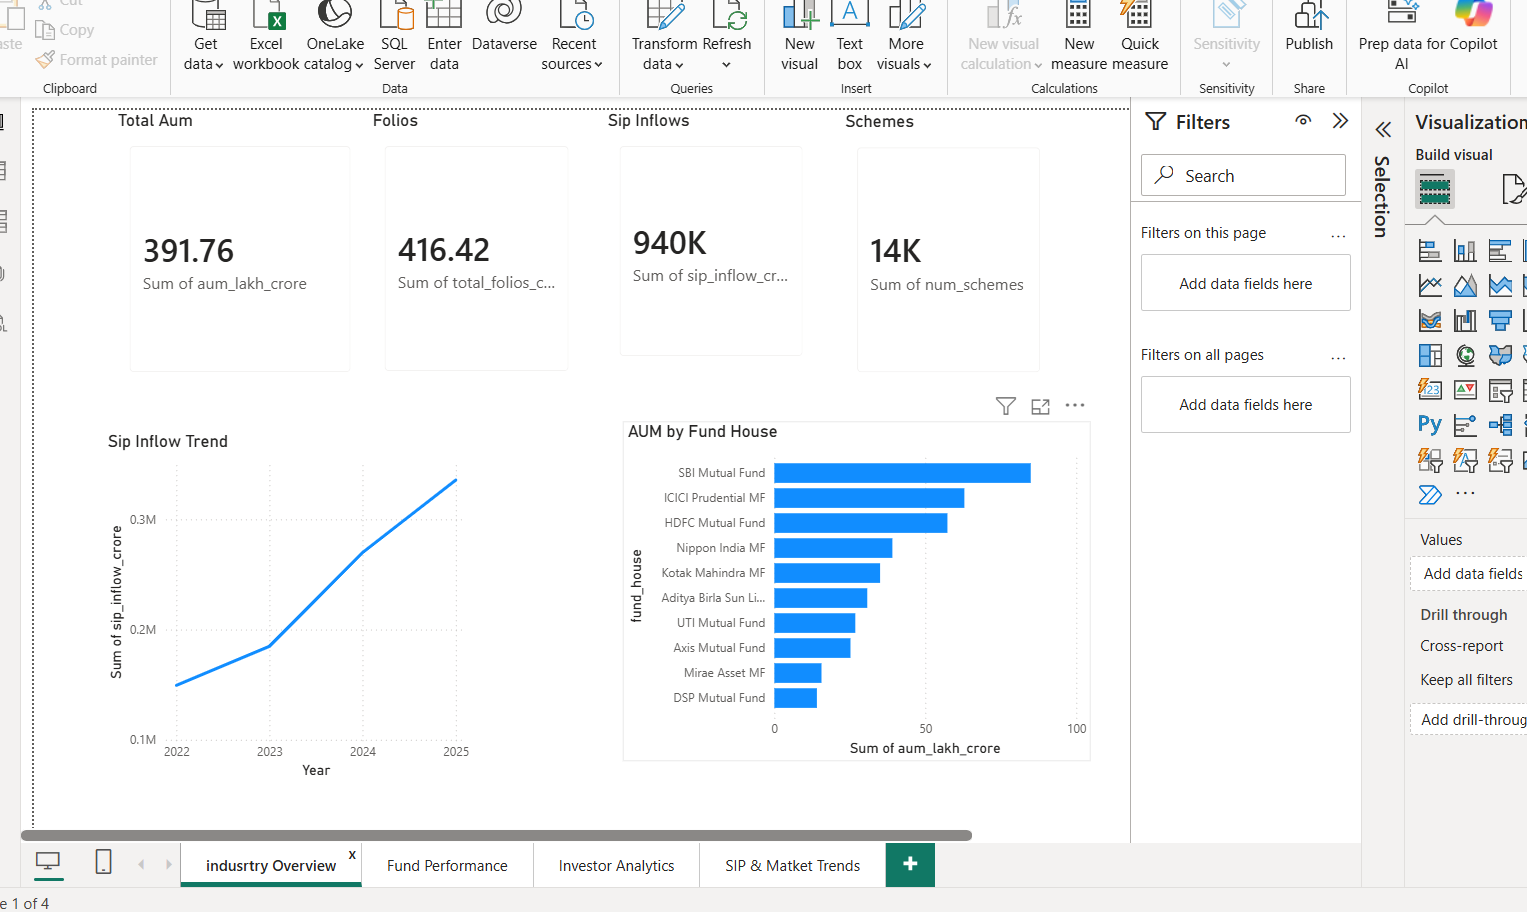

Layout of this report page (visuals, bound fields, positions):
{"tool":"powerbi","page":{"name":"indusrtry Overview ","canvas":[1280,720],"ordinal":0},"visuals":[{"type":"cardVisual","title":"Total Aum ","fields":{"Data":["Sum(03_aum_by_fund_house_clean.aum_lakh_crore)"]},"box":[78.8,0,255,280],"z":0},{"type":"clusteredBarChart","title":"AUM by Fund House ","fields":{"Category":["03_aum_by_fund_house_clean.fund_house"],"Y":["Sum(03_aum_by_fund_house_clean.aum_lakh_crore)"]},"box":[588.8,311.2,468.8,340],"z":1000},{"type":"cardVisual","title":"Schemes","fields":{"Data":["Sum(03_aum_by_fund_house_clean.num_schemes)"]},"box":[806.2,1.2,217.5,278.8],"z":2000},{"type":"cardVisual","title":"Sip Inflows","fields":{"Data":["Sum(04_monthly_sip_inflows_clean.sip_inflow_crore)"]},"box":[568.8,0,217.5,263.8],"z":2001},{"type":"cardVisual","title":"Folios","fields":{"Data":["Sum(06_industry_folio_count_clean.total_folios_crore)"]},"box":[333.8,0,218.8,278.8],"z":2002},{"type":"lineChart","title":"Sip Inflow Trend","fields":{"Category":["04_monthly_sip_inflows_clean.month.Variation.Date Hierarchy.Year","04_monthly_sip_inflows_clean.month.Variation.Date Hierarchy.Quarter","04_monthly_sip_inflows_clean.month.Variation.Date Hierarchy.Month","04_monthly_sip_inflows_clean.month.Variation.Date Hierarchy.Day"],"Y":["Sum(04_monthly_sip_inflows_clean.sip_inflow_crore)"]},"box":[68.8,321.2,371.2,352.5],"z":2003}]}

Visuals, with their boxes on the page's 1280x720 design canvas (x1, y1, x2, y2). These are canvas units, not pixel positions in the 1527x912 screenshot, which may show the page scaled, cropped or inside an application window:
"Total Aum " cardVisual: box=[79, 0, 334, 280]
"AUM by Fund House " clusteredBarChart: box=[589, 311, 1058, 651]
"Schemes" cardVisual: box=[806, 1, 1024, 280]
"Sip Inflows" cardVisual: box=[569, 0, 786, 264]
"Folios" cardVisual: box=[334, 0, 553, 279]
"Sip Inflow Trend" lineChart: box=[69, 321, 440, 674]
